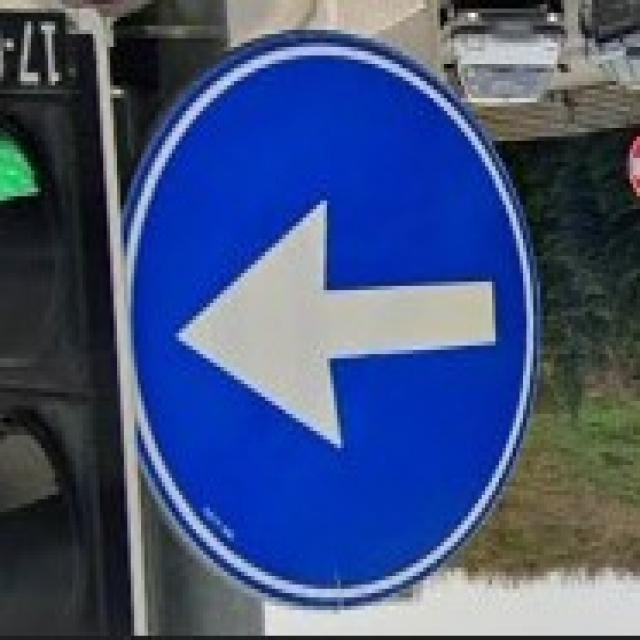Turn Left: (123, 46, 540, 588)
